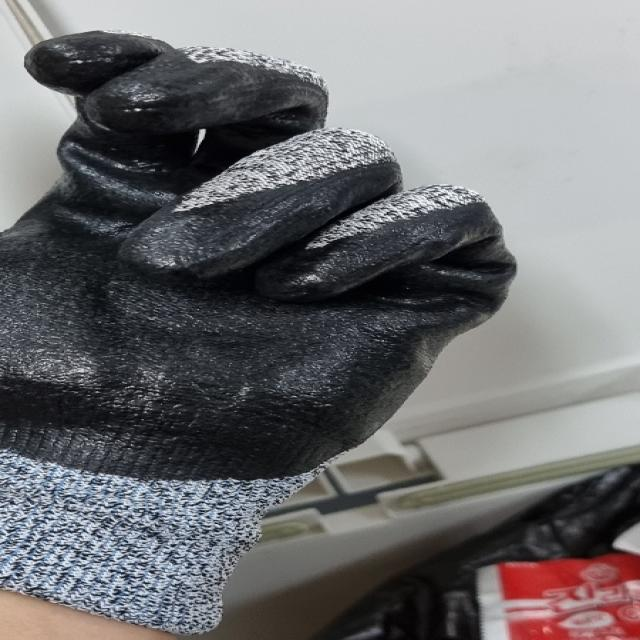Gloves: (3, 26, 520, 640)
